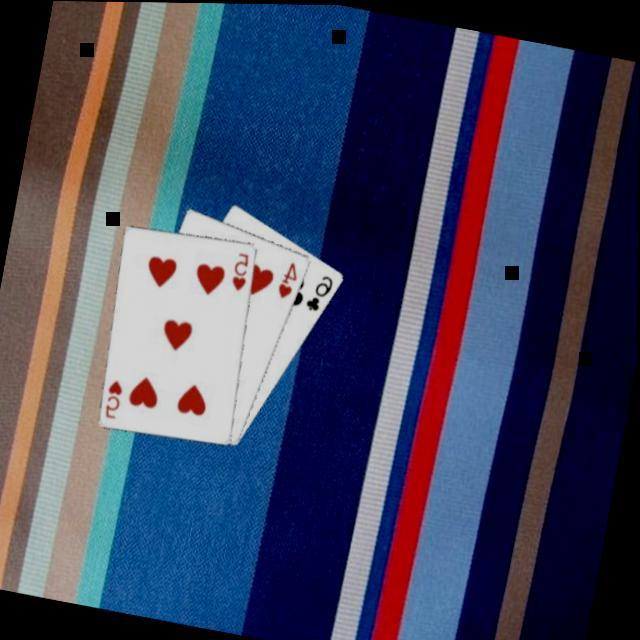4H: (272, 256, 301, 302)
5H: (226, 248, 252, 294), (99, 376, 125, 422)
6C: (300, 269, 336, 315)
